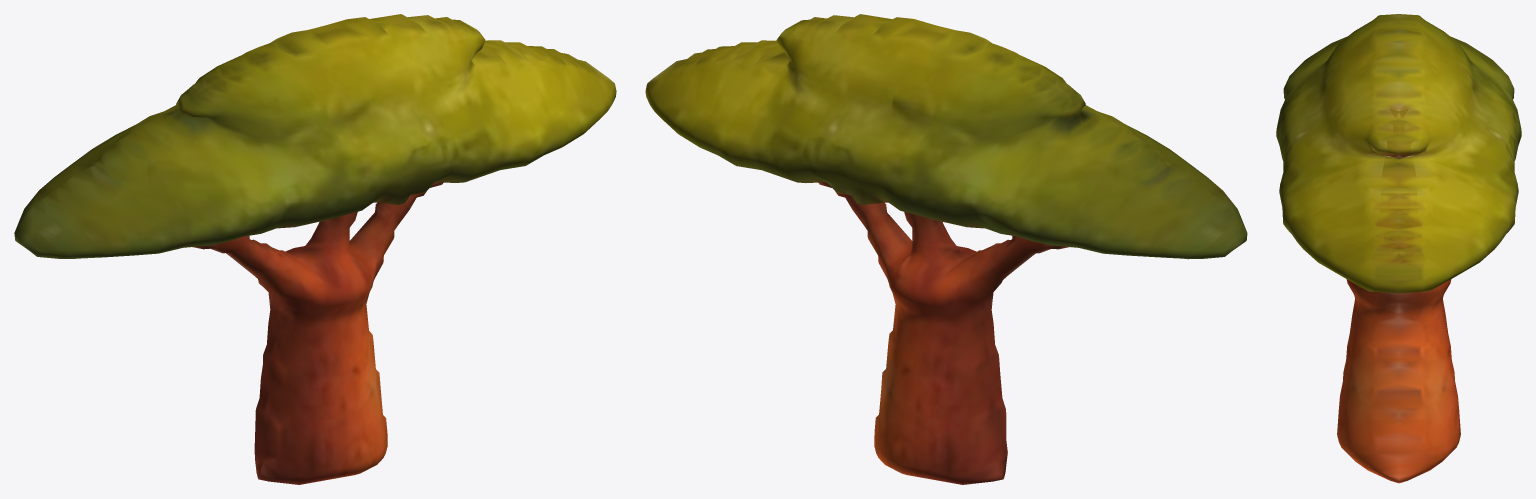
File: 03_baobab_trees_r02_c02.glb
The picture shows the model from 3 angles, left to right: view 1: azimuth 30°, elevation 25°; view 2: azimuth 150°, elevation 25°; view 3: azimuth 270°, elevation 25°; orthographic projection. The views are drawn at different scales.
Parts seen in each view (by area): view 1: 03_baobab_trees_r02_c02; view 2: 03_baobab_trees_r02_c02; view 3: 03_baobab_trees_r02_c02.
Part boxes in pixels (x1,y1,x2,y2): 03_baobab_trees_r02_c02: (14, 14, 616, 484); 03_baobab_trees_r02_c02: (645, 14, 1247, 484); 03_baobab_trees_r02_c02: (1276, 14, 1521, 483).
Size of the model in its own units: 1.84 by 1.3 by 0.6993.
1 material, 1 textured.
